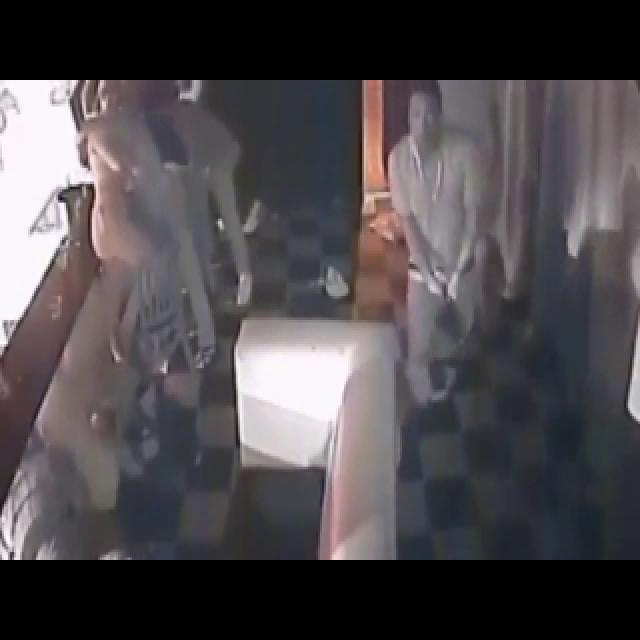shooting: (332, 70, 533, 494)
